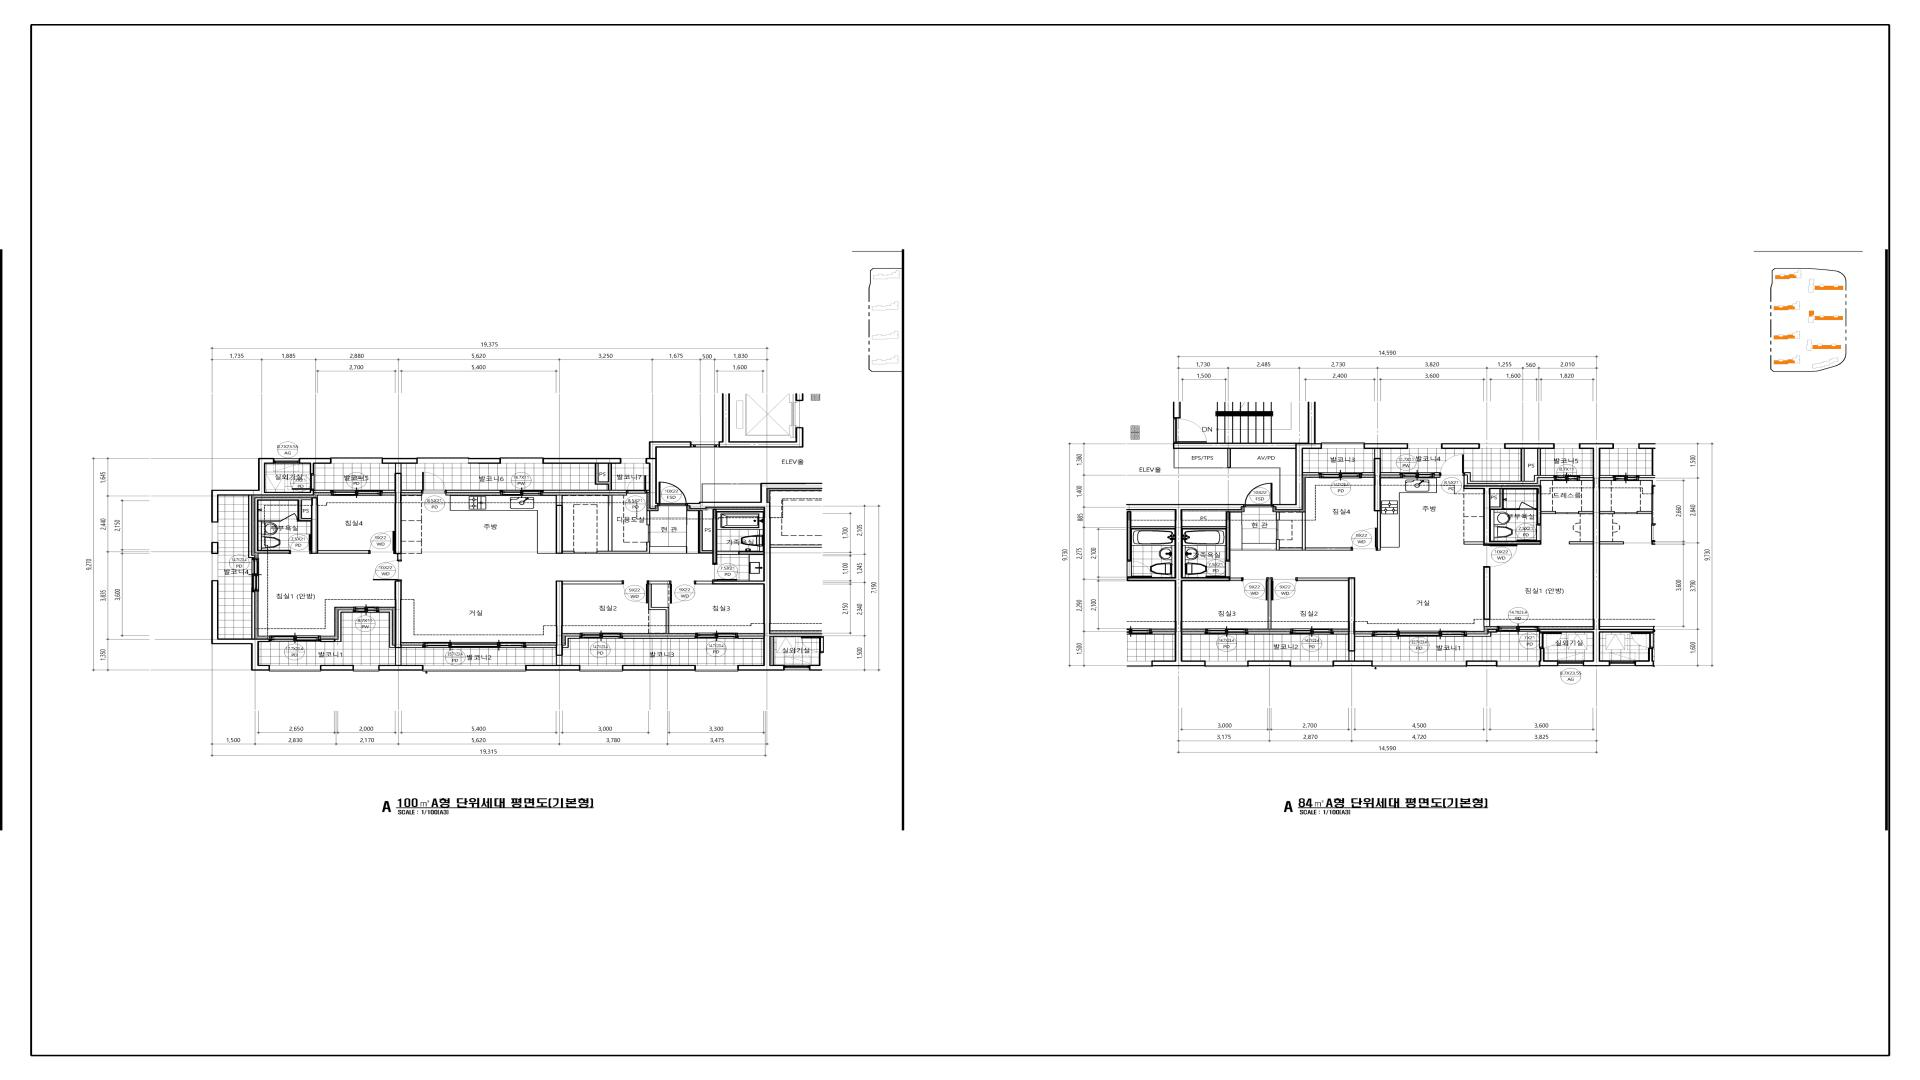door: (1174, 418, 1207, 443), (658, 481, 687, 506), (1245, 483, 1273, 508), (1487, 545, 1518, 567), (670, 580, 696, 604), (622, 580, 649, 604), (368, 530, 394, 554), (1241, 578, 1267, 601), (1350, 527, 1377, 551), (1271, 578, 1298, 600), (373, 560, 402, 580), (1440, 455, 1464, 476), (422, 472, 446, 493), (1205, 559, 1230, 578), (289, 534, 311, 554), (712, 563, 737, 580), (1516, 525, 1542, 541), (800, 637, 824, 653), (1539, 633, 1563, 649), (626, 475, 646, 493), (291, 475, 315, 489), (281, 513, 298, 522), (1519, 501, 1536, 510), (646, 525, 650, 542), (575, 551, 597, 554), (1556, 513, 1578, 514), (1276, 521, 1278, 539)
wall: (687, 502, 823, 671), (1172, 402, 1321, 510), (1539, 443, 1601, 666), (1175, 504, 1245, 666), (526, 580, 622, 665), (1464, 472, 1556, 545), (211, 458, 314, 522), (1298, 578, 1373, 666), (255, 497, 368, 554), (211, 580, 269, 671), (1362, 443, 1408, 551), (378, 580, 423, 665), (382, 464, 422, 559), (699, 509, 764, 563), (597, 495, 650, 554), (1276, 513, 1350, 551), (543, 464, 626, 493), (1505, 443, 1555, 481), (555, 495, 575, 554), (649, 580, 670, 633), (320, 609, 353, 642), (1490, 489, 1519, 510), (646, 458, 658, 509), (299, 458, 331, 475), (543, 458, 621, 464), (248, 496, 256, 558), (622, 665, 695, 671), (1484, 567, 1490, 626), (526, 665, 580, 671), (1540, 649, 1559, 666), (378, 665, 423, 671), (622, 636, 695, 640), (1441, 443, 1480, 450), (1466, 629, 1497, 637), (382, 458, 418, 464), (468, 458, 501, 464), (320, 665, 353, 671), (1249, 661, 1290, 666), (447, 489, 500, 493), (1267, 578, 1271, 629), (252, 592, 256, 638), (1466, 661, 1497, 666), (1172, 402, 1180, 418), (1247, 632, 1291, 634), (738, 551, 764, 555), (738, 636, 764, 640), (211, 542, 219, 554), (314, 489, 331, 493), (696, 580, 712, 584), (646, 510, 650, 525), (1276, 512, 1279, 521), (1433, 472, 1440, 475)
window: (423, 665, 526, 671), (1371, 661, 1466, 667), (1373, 630, 1466, 637), (423, 642, 526, 647), (269, 636, 320, 642), (331, 489, 382, 496), (331, 458, 382, 464), (270, 665, 320, 671), (418, 458, 468, 464), (695, 665, 738, 671), (1497, 661, 1540, 667), (1205, 661, 1249, 667), (1319, 472, 1362, 479), (580, 665, 622, 671), (501, 458, 543, 464), (500, 489, 542, 496), (695, 633, 738, 638), (1290, 662, 1333, 667), (252, 558, 258, 592), (1400, 472, 1435, 479), (580, 633, 622, 638), (1321, 443, 1364, 448), (1497, 626, 1539, 632), (1291, 629, 1333, 634), (1205, 629, 1247, 634), (1553, 475, 1580, 481), (785, 665, 810, 671), (353, 665, 378, 671), (353, 607, 378, 613), (274, 458, 299, 464), (212, 554, 218, 580), (1557, 661, 1582, 666), (1408, 444, 1441, 448), (212, 522, 218, 542), (621, 459, 646, 463), (1480, 444, 1505, 448), (1555, 444, 1578, 448)
